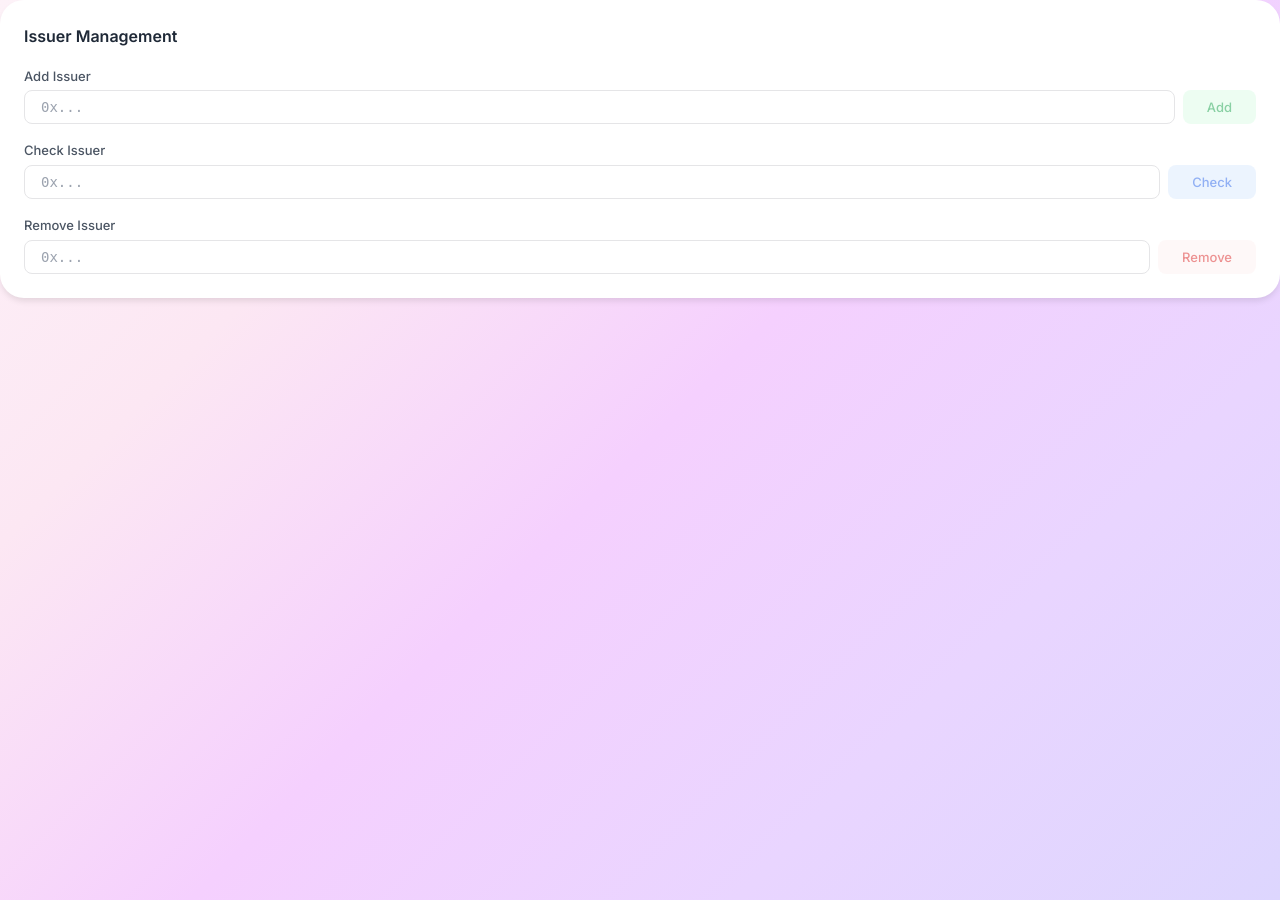
Test: IssuerManagement › Add Issuer › shows error message when address is already an issuer
The image size is (1280, 900).
Type "0x1234567890123456789012345678901234567890" into the field with placeholder "0x..." below "Add Issuer" at (599, 107), box [24,90,1175,124]
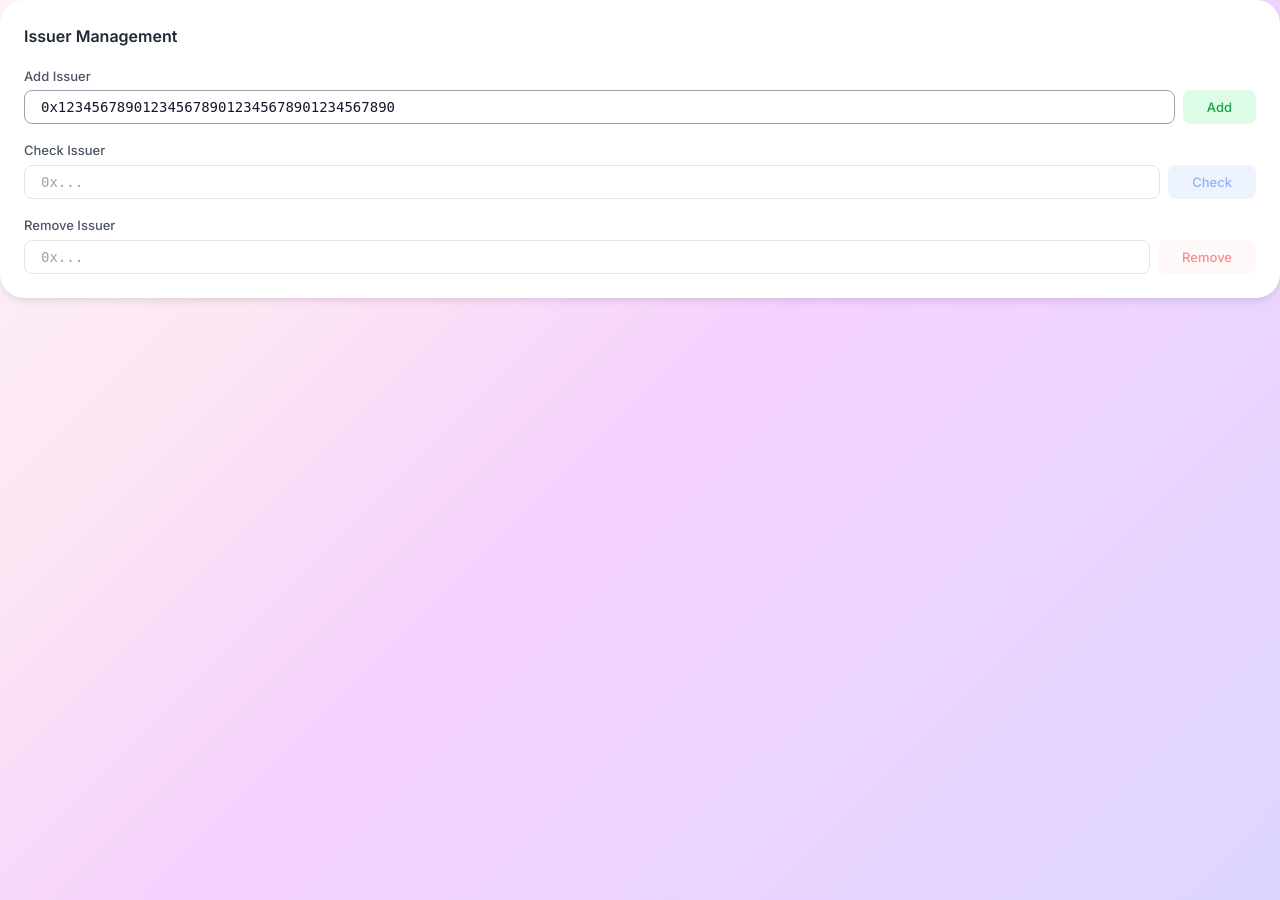
Click the button "Add" at (1219, 107), box [1183,90,1256,124]
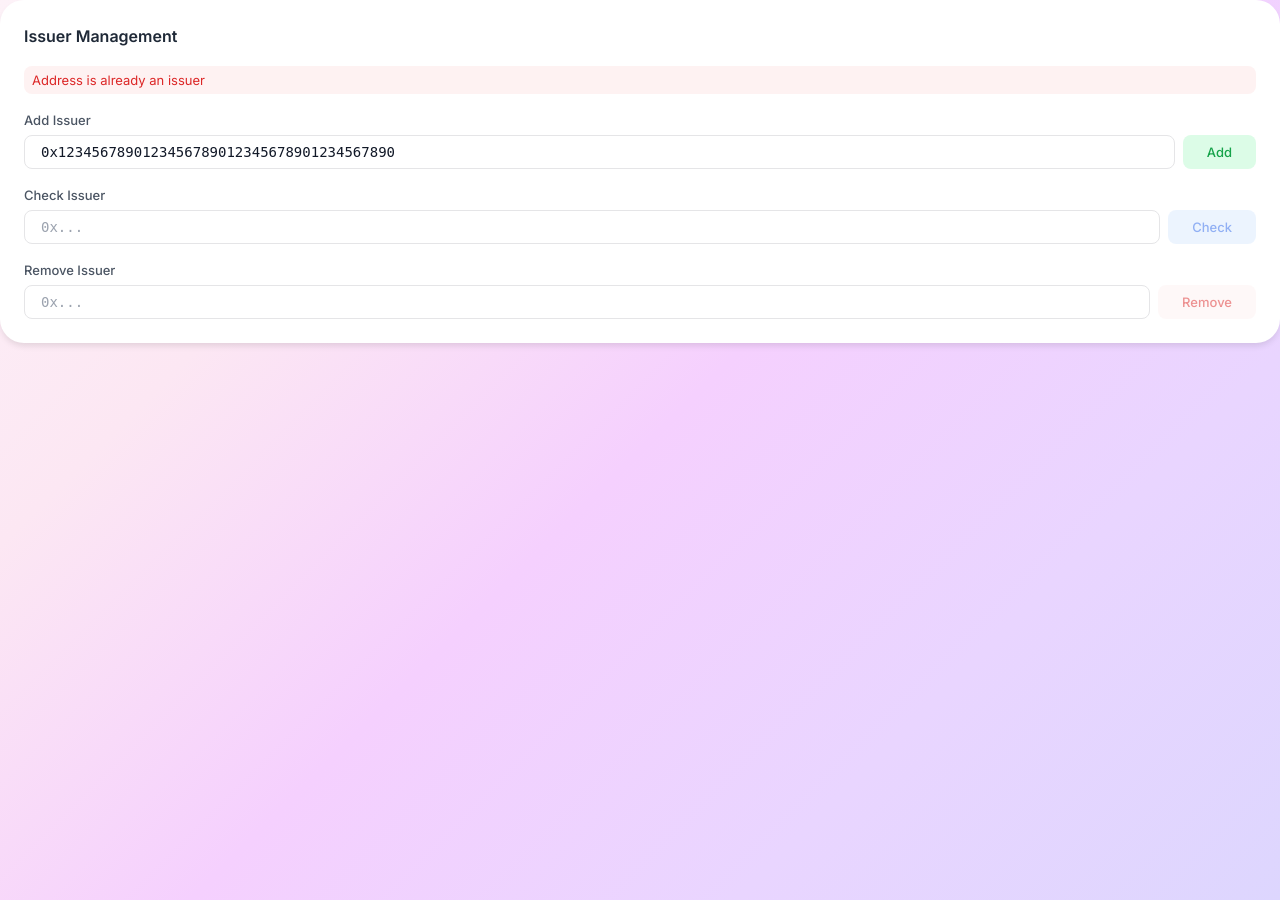
Expected: the text "Address is already an issuer" is shown, [24,66,1256,94]
